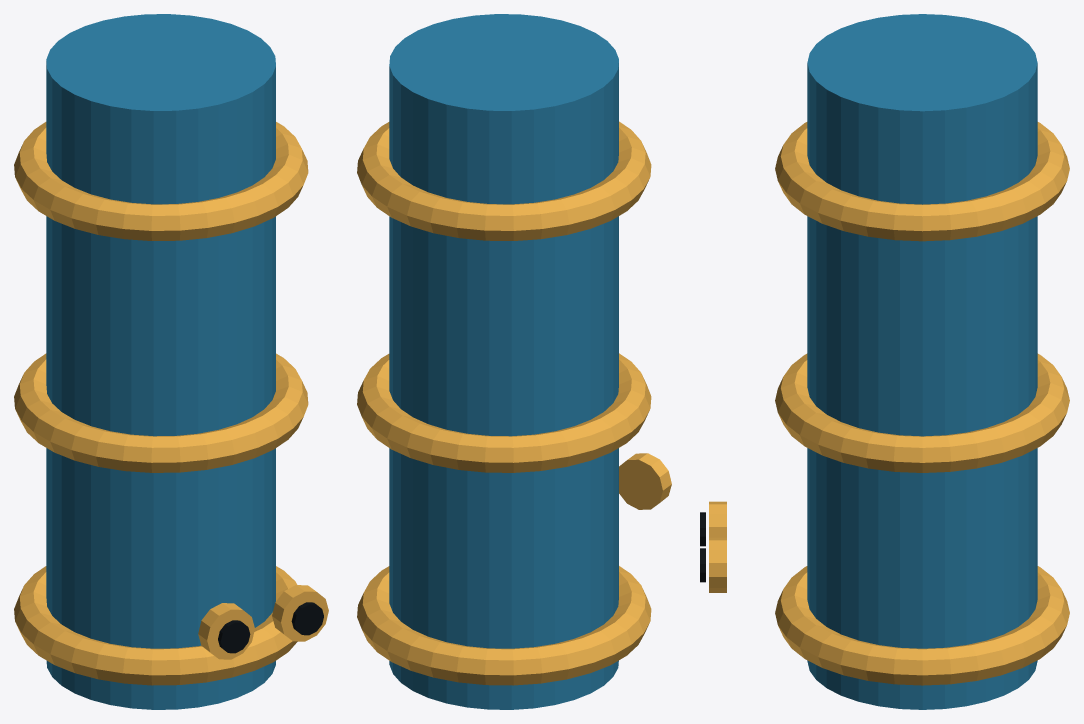
The model's file is 51_L92_CoreRetentionSleeve.fbx.
The picture shows the model from 3 angles, left to right: view 1: azimuth 30°, elevation 25°; view 2: azimuth 150°, elevation 25°; view 3: azimuth 270°, elevation 25°; orthographic projection.
Parts seen in each view (by area): view 1: L92_CoreRetentionSleeve_Part_0000, L92_CoreRetentionSleeve_Part_0001, L92_CoreRetentionSleeve_Part_0004, L92_CoreRetentionSleeve_Part_0002, L92_CoreRetentionSleeve_Part_0005, L92_CoreRetentionSleeve_Part_0003; view 2: L92_CoreRetentionSleeve_Part_0000, L92_CoreRetentionSleeve_Part_0001, L92_CoreRetentionSleeve_Part_0002; view 3: L92_CoreRetentionSleeve_Part_0000, L92_CoreRetentionSleeve_Part_0001, L92_CoreRetentionSleeve_Part_0004, L92_CoreRetentionSleeve_Part_0002.
Part boxes in pixels (left/top/right/bottom): L92_CoreRetentionSleeve_Part_0000: left=46, top=14, right=275, bottom=709; L92_CoreRetentionSleeve_Part_0001: left=14, top=122, right=308, bottom=685; L92_CoreRetentionSleeve_Part_0004: left=272, top=585, right=328, bottom=641; L92_CoreRetentionSleeve_Part_0002: left=198, top=603, right=254, bottom=659; L92_CoreRetentionSleeve_Part_0005: left=291, top=602, right=323, bottom=635; L92_CoreRetentionSleeve_Part_0003: left=218, top=620, right=250, bottom=653; L92_CoreRetentionSleeve_Part_0000: left=389, top=14, right=618, bottom=709; L92_CoreRetentionSleeve_Part_0001: left=357, top=121, right=651, bottom=685; L92_CoreRetentionSleeve_Part_0002: left=619, top=453, right=671, bottom=509; L92_CoreRetentionSleeve_Part_0000: left=807, top=14, right=1037, bottom=709; L92_CoreRetentionSleeve_Part_0001: left=775, top=122, right=1069, bottom=685; L92_CoreRetentionSleeve_Part_0004: left=709, top=537, right=726, bottom=592; L92_CoreRetentionSleeve_Part_0002: left=709, top=501, right=726, bottom=537.
Size of the model in its own units: 69.2 by 155 by 86.8.
